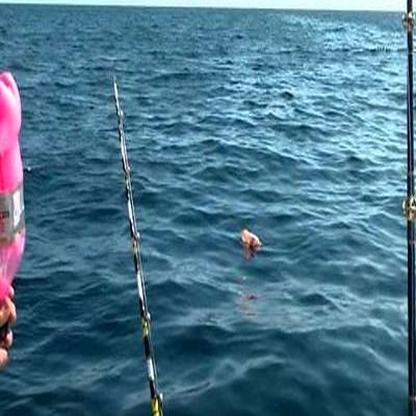plastic bottle: (1, 72, 24, 301), (236, 225, 263, 249)
